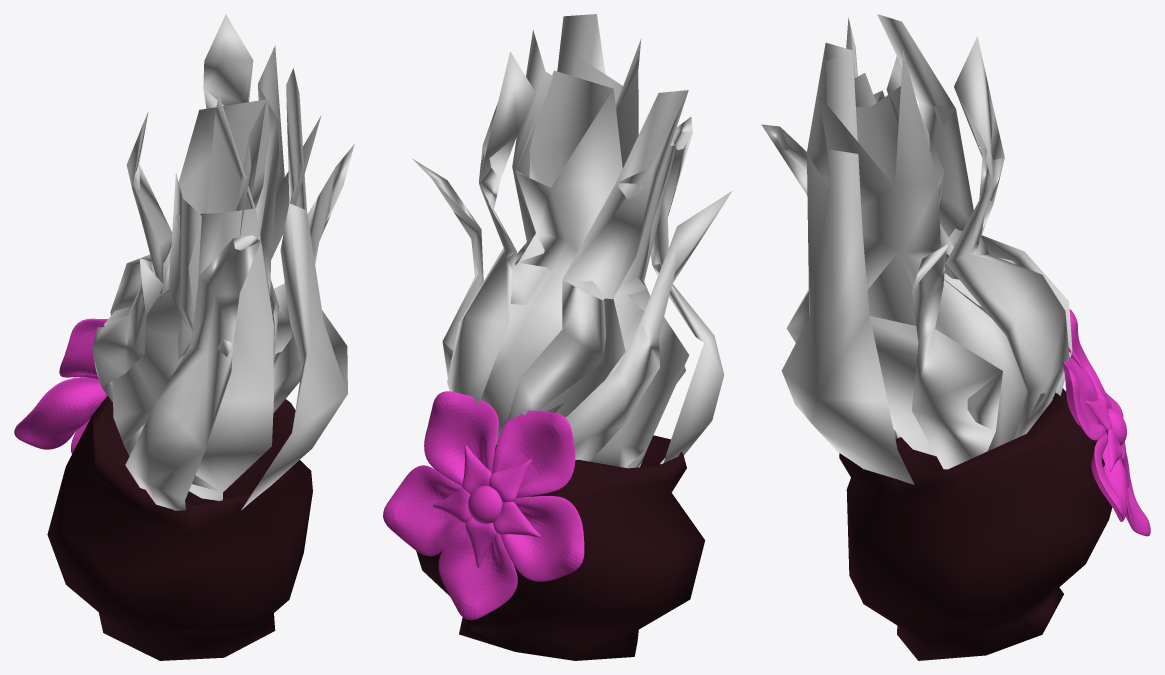
Rendered from knotflower.fbx.
3 renders of one model, left to right at view 1: azimuth 30°, elevation 25°; view 2: azimuth 150°, elevation 25°; view 3: azimuth 270°, elevation 25°, orthographic. The views are drawn at different scales.
Parts seen in each view (by area): view 1: Plant jar, uploads_files_635005_Flower01; view 2: Plant jar, uploads_files_635005_Flower01; view 3: Plant jar, uploads_files_635005_Flower01.
Boxes of the visible parts, left/top/right/bottom form: Plant jar: left=47, top=14, right=354, bottom=660; uploads_files_635005_Flower01: left=14, top=318, right=107, bottom=453; Plant jar: left=412, top=14, right=732, bottom=660; uploads_files_635005_Flower01: left=383, top=391, right=584, bottom=620; Plant jar: left=761, top=14, right=1112, bottom=660; uploads_files_635005_Flower01: left=1062, top=309, right=1150, bottom=536.
Bounding box in the file's own units: 0.0973 × 0.2007 × 0.1145.
